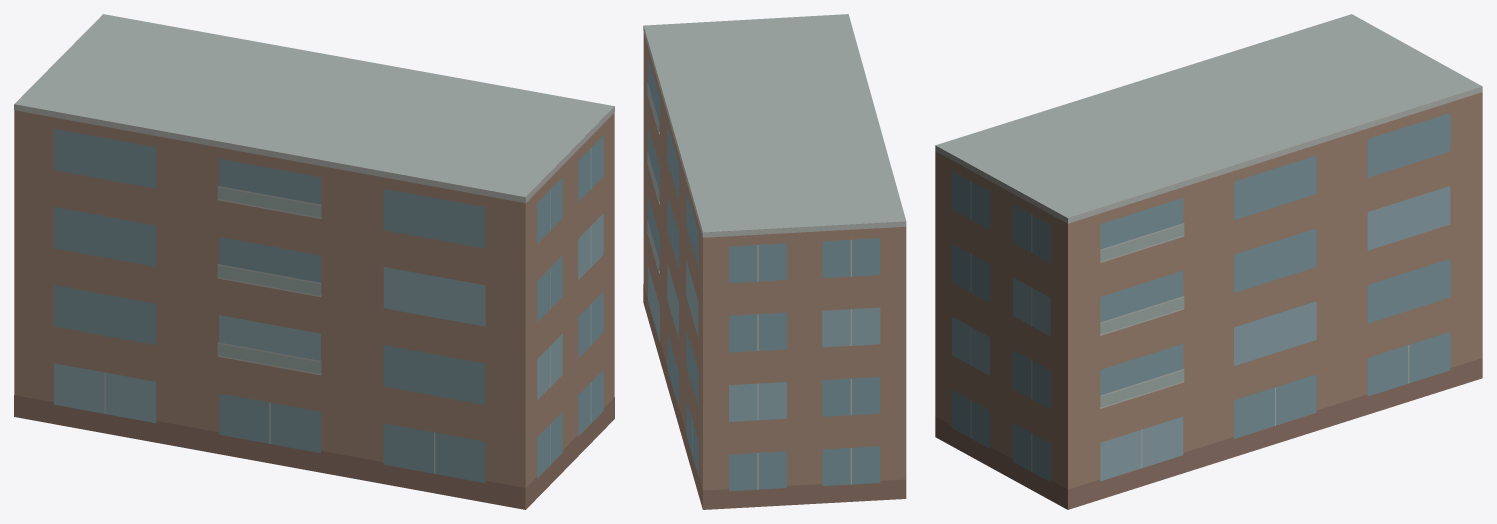
File: survey-upis-32590028.glb
3 renders of one model, left to right at view 1: azimuth 30°, elevation 25°; view 2: azimuth 150°, elevation 25°; view 3: azimuth 270°, elevation 25°, orthographic. The views are drawn at different scales.
Visible parts, largest first — view 1: survey-upis-32590028.tmp; view 2: survey-upis-32590028.tmp; view 3: survey-upis-32590028.tmp.
Boxes of the visible parts, x1,y1,x2,y2 form: survey-upis-32590028.tmp: (14,14,614,509); survey-upis-32590028.tmp: (643,14,906,509); survey-upis-32590028.tmp: (935,14,1482,509).
Size of the model in its own units: 19.07 by 12.7 by 21.61.
